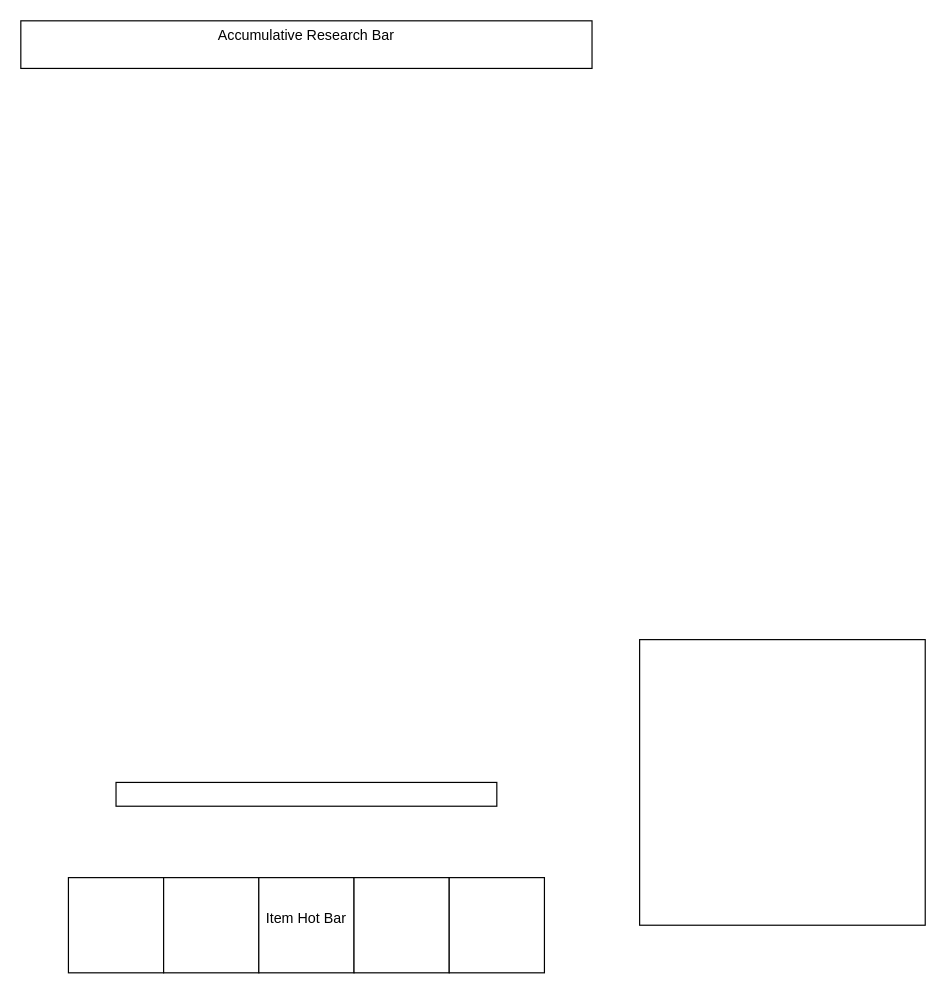
The diagram is 946 pixels wide and 994 high, and some of its shapes have lost their labels. The box of each missing label's shape, as (x1, y1, x2, y2) in pixels:
Held item space: (638, 638, 925, 925)
Task based research bar: (115, 781, 497, 806)
